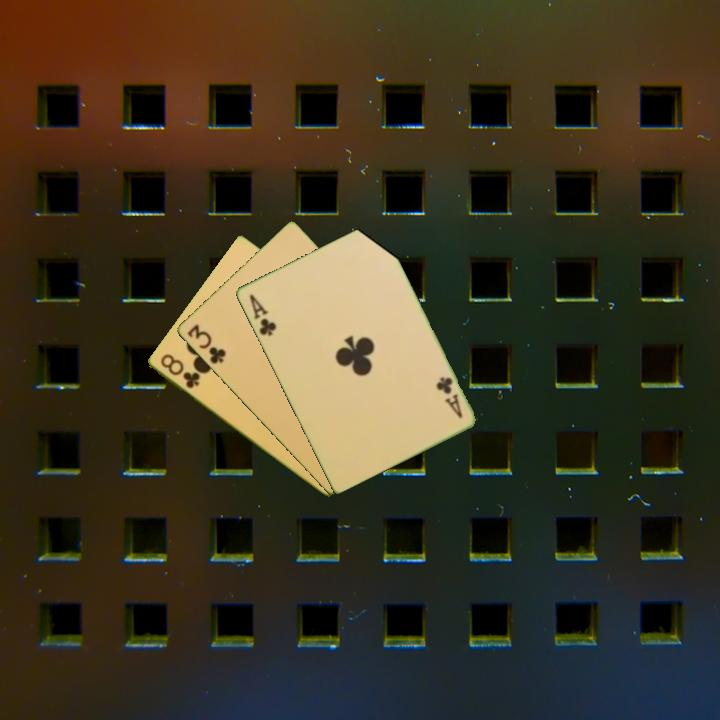3c: (183, 320, 229, 367)
8c: (156, 350, 202, 392)
Ac: (245, 290, 279, 339), (432, 373, 465, 421)
